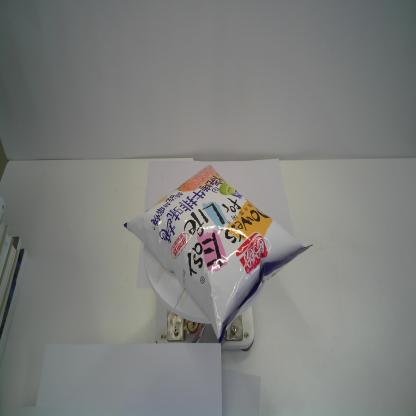Puffed Food: (123, 164, 313, 342)
